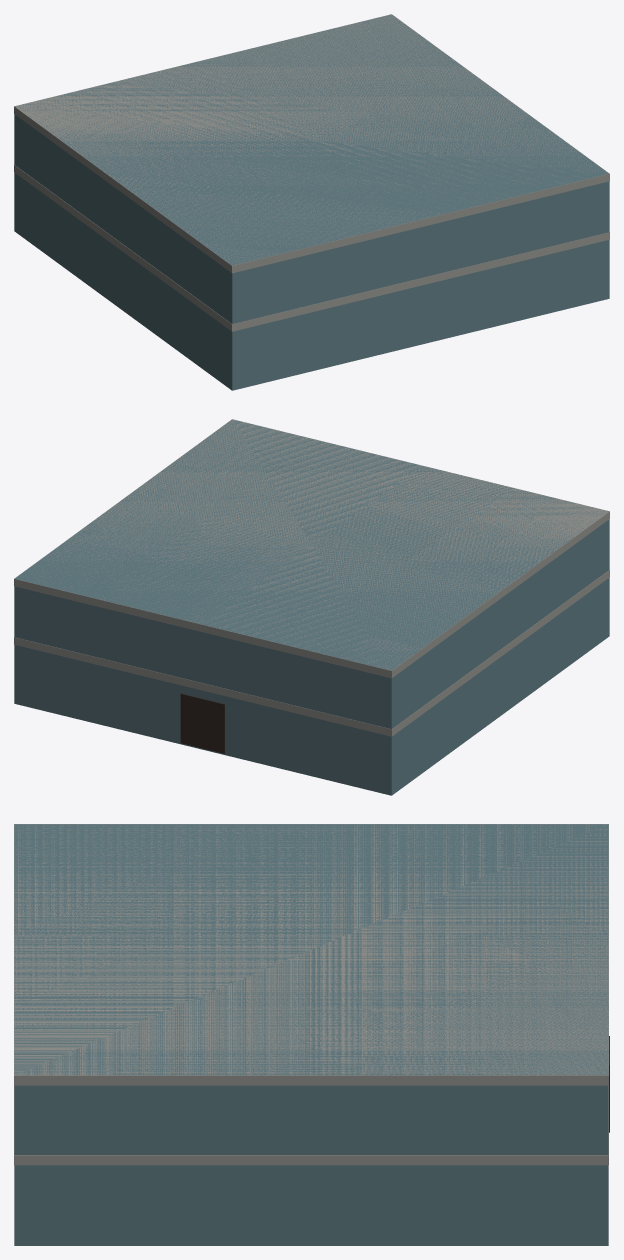
Rendered from tw_glass_24_base_lod1.glb.
3 renders of one model, top to bottom at view 1: azimuth 30°, elevation 25°; view 2: azimuth 150°, elevation 25°; view 3: azimuth 270°, elevation 25°, orthographic. The views are drawn at different scales.
Visible parts, largest first — view 1: tw_glass_24_base_lod1; view 2: tw_glass_24_base_lod1; view 3: tw_glass_24_base_lod1.
Boxes of the visible parts, bbox=[...] form: tw_glass_24_base_lod1: bbox=[14, 14, 609, 390]; tw_glass_24_base_lod1: bbox=[14, 419, 609, 795]; tw_glass_24_base_lod1: bbox=[14, 824, 609, 1245].
Size of the model in its own units: 24.04 by 7.6 by 24.08.
Materials: 2 (2 with a texture image).
